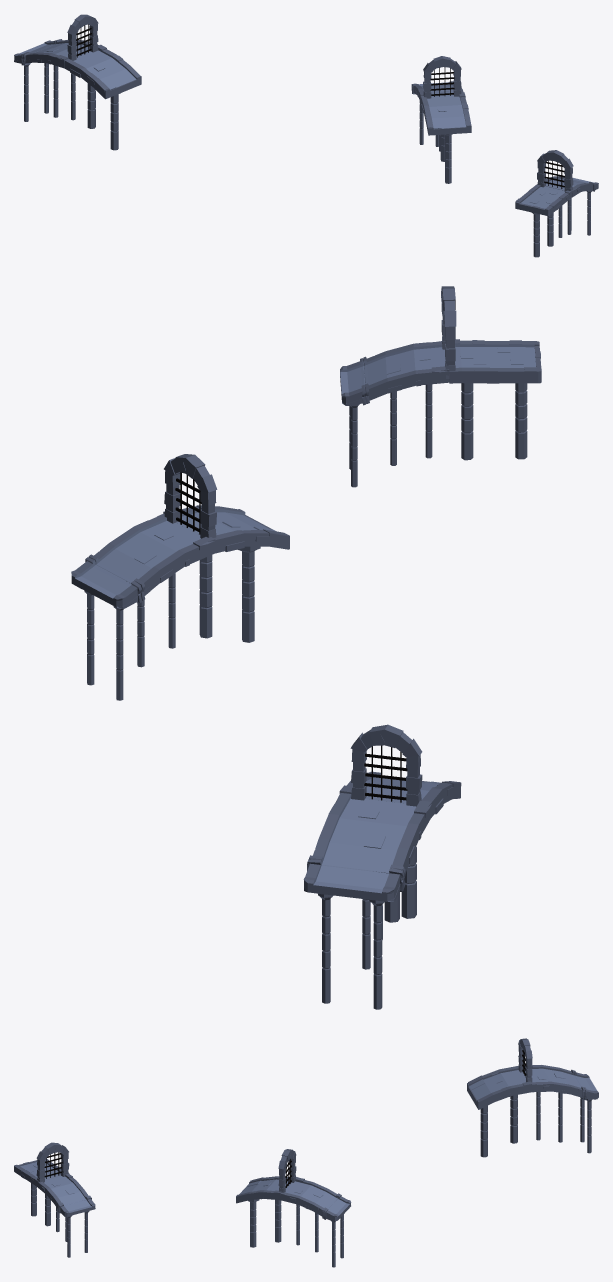
The model's file is ponti.fbx.
3 views of the same model, one above another, from view 1: azimuth 30°, elevation 25°; view 2: azimuth 150°, elevation 25°; view 3: azimuth 270°, elevation 25° (orthographic). The views are drawn at different scales.
Visible parts, largest first — view 1: ponte_fisso_1, ponte_fisso_2, ponte_fisso_3, ponte_rotante_1, punta_ponte_1, ponte_rotante_3.001, ponte_rotante_2, grata_2; view 2: ponte_rotante_1, ponte_fisso_2, ponte_fisso_3, ponte_rotante_2, ponte_fisso_1, punta_ponte_1, ponte_rotante_3.001, punta_ponte_2, punta_ponte_3, grata_1; view 3: ponte_fisso_1, ponte_fisso_2, ponte_rotante_1, ponte_fisso_3, ponte_rotante_2, ponte_rotante_3.001, punta_ponte_1, punta_ponte_2, punta_ponte_3.
Boxes of the visible parts, x1,y1,x2,y2 form: ponte_fisso_1: [64, 14, 141, 150]; ponte_fisso_2: [421, 56, 471, 183]; ponte_fisso_3: [515, 150, 573, 257]; ponte_rotante_1: [23, 39, 98, 120]; punta_ponte_1: [14, 39, 59, 121]; ponte_rotante_3.001: [545, 176, 594, 237]; ponte_rotante_2: [412, 82, 463, 151]; grata_2: [430, 67, 454, 96]; ponte_rotante_1: [309, 793, 431, 969]; ponte_fisso_2: [163, 454, 289, 642]; ponte_fisso_3: [441, 286, 541, 460]; ponte_rotante_2: [88, 513, 215, 667]; ponte_fisso_1: [339, 724, 461, 922]; punta_ponte_1: [303, 859, 403, 1009]; ponte_rotante_3.001: [363, 341, 449, 465]; punta_ponte_2: [71, 557, 141, 700]; punta_ponte_3: [340, 358, 366, 487]; grata_1: [364, 745, 407, 802]; ponte_fisso_1: [467, 1038, 532, 1157]; ponte_fisso_2: [236, 1149, 296, 1247]; ponte_rotante_1: [525, 1065, 584, 1142]; ponte_fisso_3: [14, 1142, 69, 1226]; ponte_rotante_2: [280, 1177, 339, 1252]; ponte_rotante_3.001: [37, 1173, 90, 1241]; punta_ponte_1: [573, 1070, 598, 1153]; punta_ponte_2: [324, 1194, 351, 1267]; punta_ponte_3: [58, 1197, 95, 1257].
Bounding box in the file's own units: 1516 × 574 × 2679.
